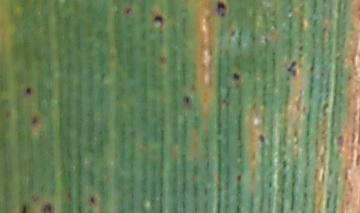tarspot: (284, 59, 301, 78), (215, 1, 229, 21), (152, 13, 166, 30), (23, 85, 37, 98), (124, 5, 135, 21), (41, 201, 55, 213), (182, 95, 194, 106), (231, 71, 243, 82), (88, 195, 99, 207), (29, 115, 39, 128), (20, 202, 31, 213), (259, 133, 266, 144)
